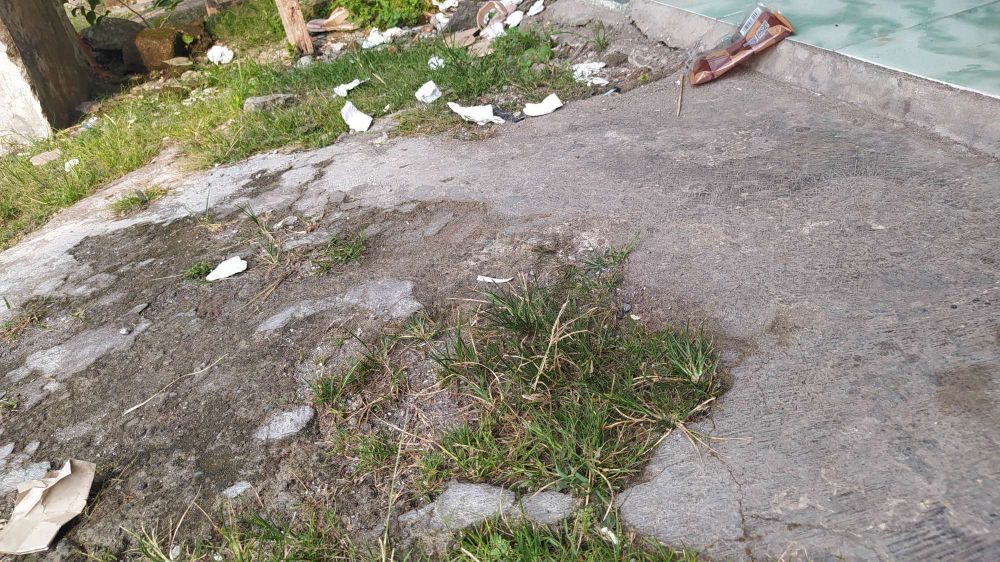plastik: (443, 95, 510, 136), (198, 246, 260, 290), (479, 1, 541, 40), (196, 34, 254, 75), (331, 100, 390, 140), (360, 12, 410, 58), (523, 91, 575, 128)
